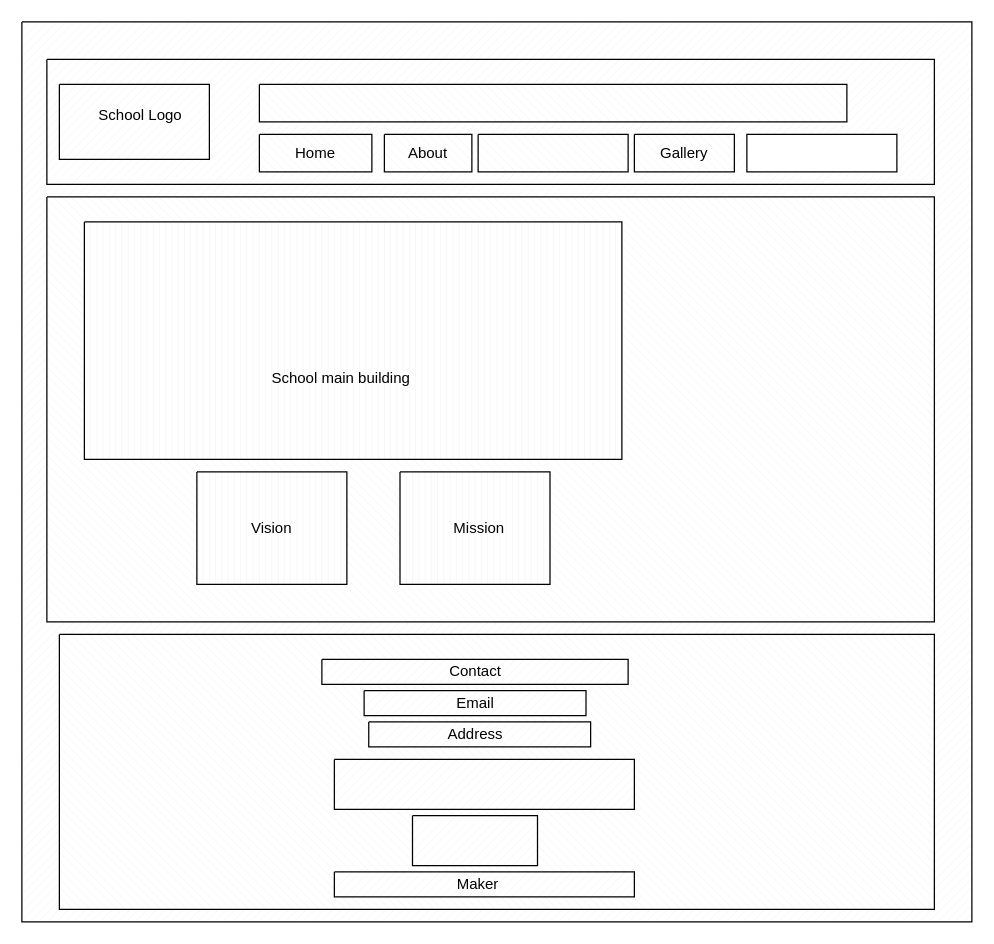
This 994x944 diagram has some shape labels left out. Here are the shapes that lost their labels. From the top down, the centre of each, then its label:
At (552,102): "School Name".
At (552,152): "Academics/Programs".
At (821,152): "Contact/ registration".
At (483,783): "Socials".
At (474,840): "About us".
